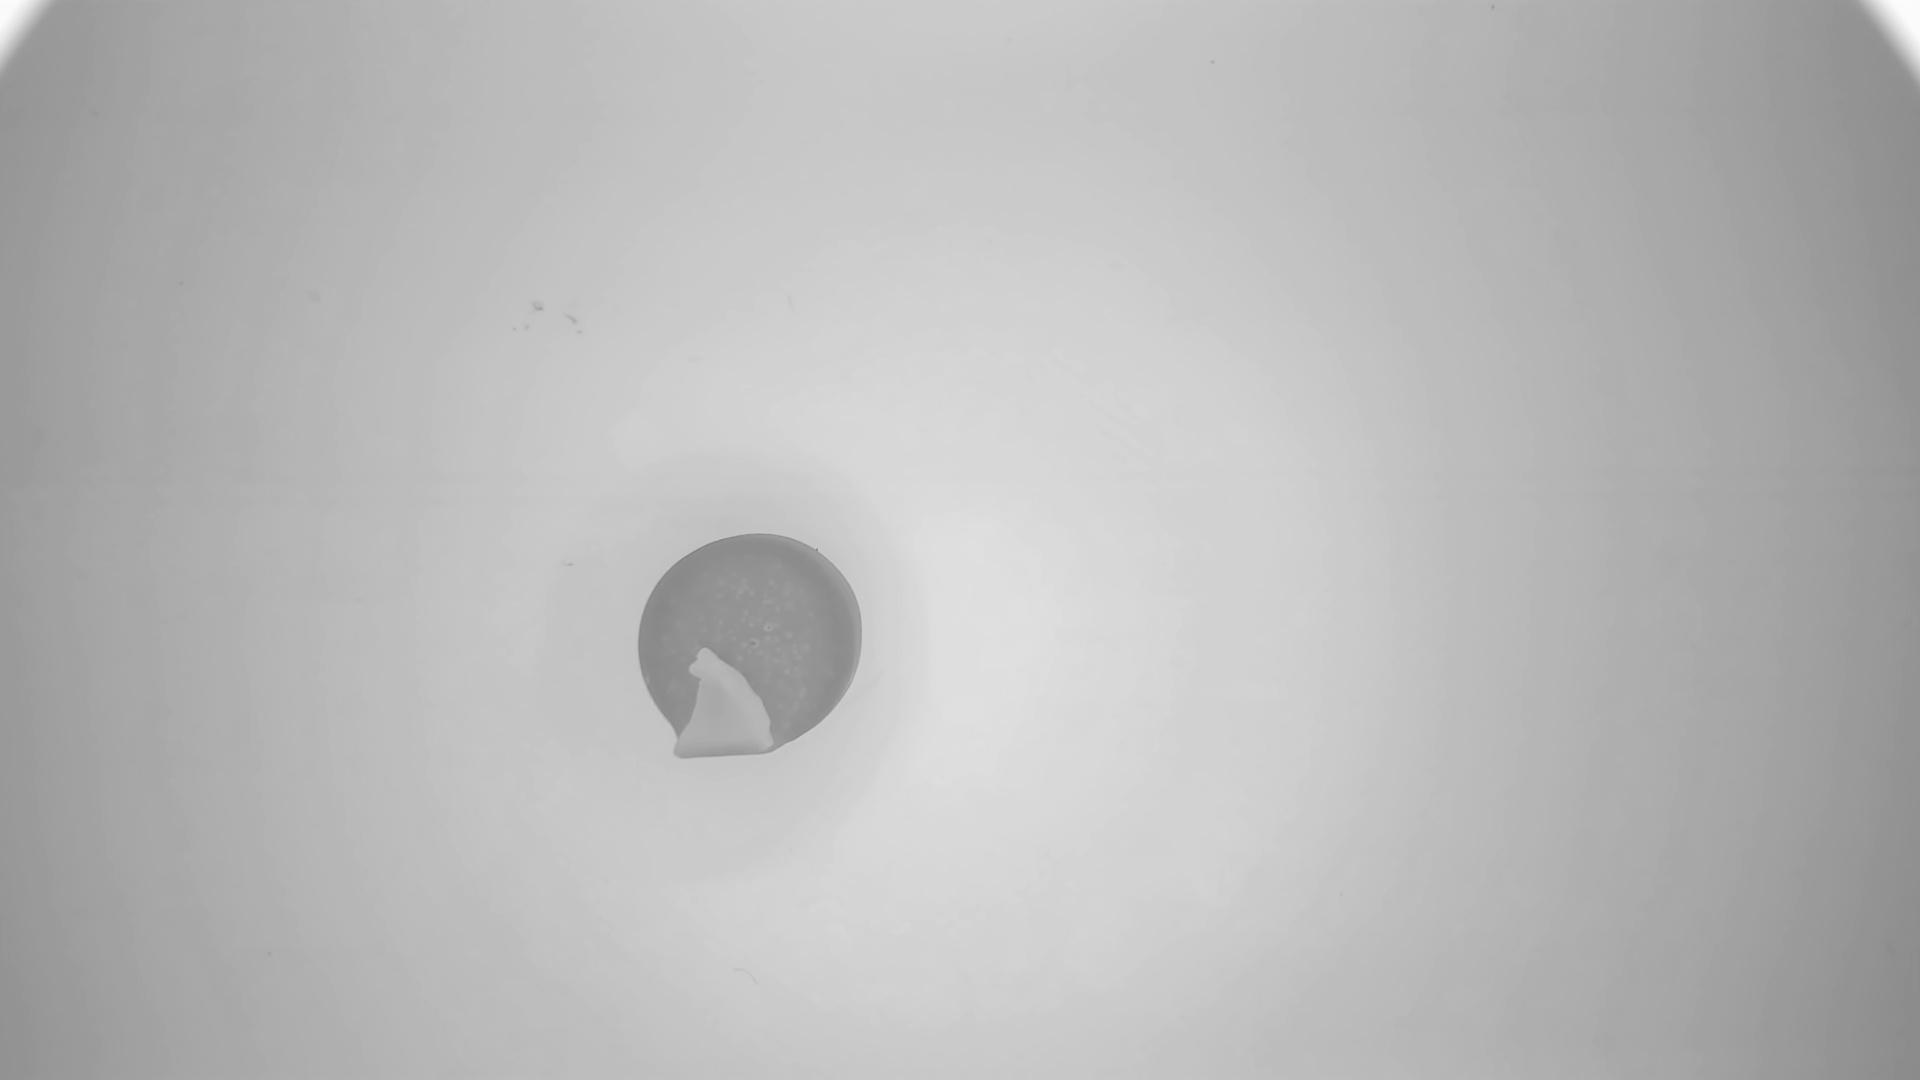abnormal: (638, 530, 868, 764)
